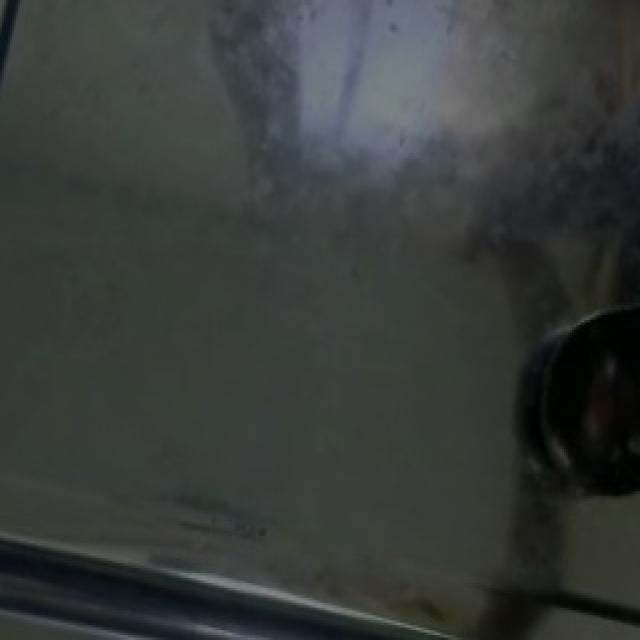Fruit: (536, 287, 640, 498)
